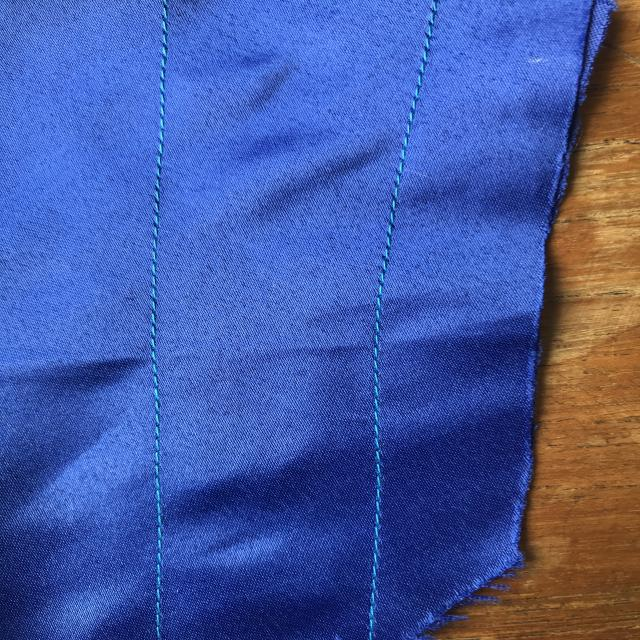good: (122, 189, 183, 343)
